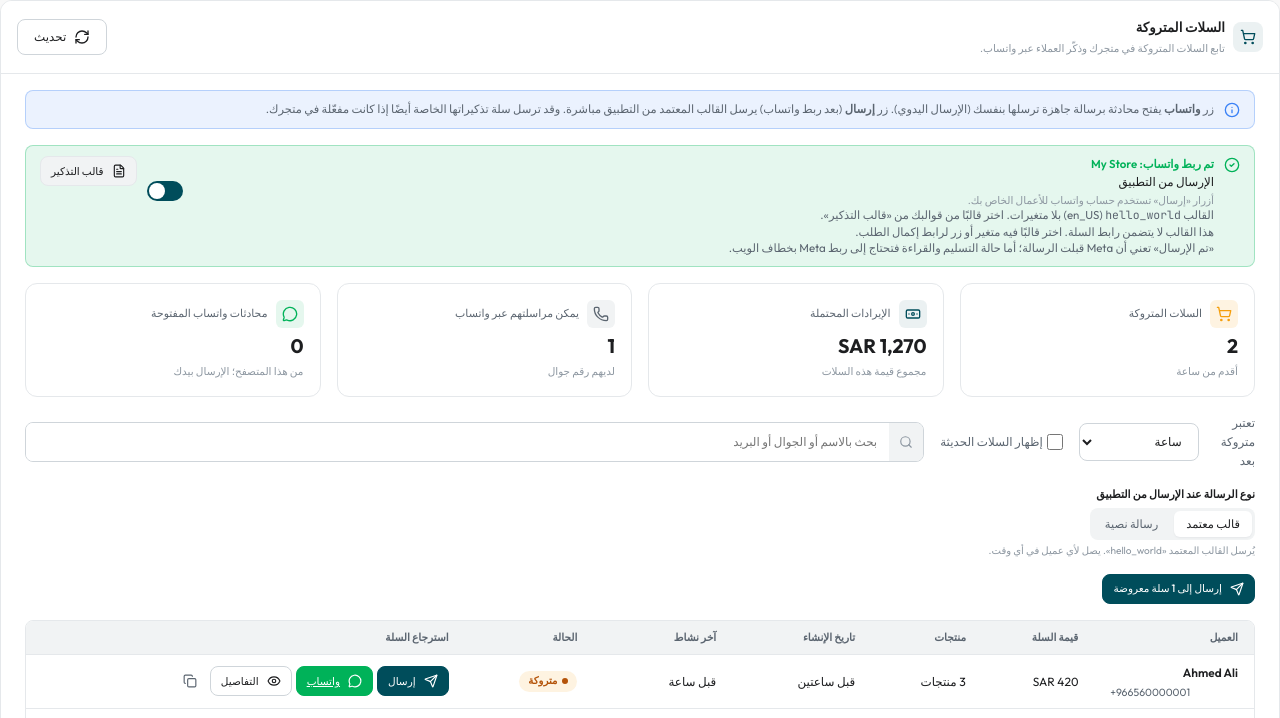
Test: CartRecoveryTab › shows why Meta rejected a message on the cart's row
The width and height of the screenshot is (1280, 718).
Click the button with aria-label "إرسال عبر واتساب إلى Ahmed Ali".
click(413, 682)  # box [377, 666, 449, 696]
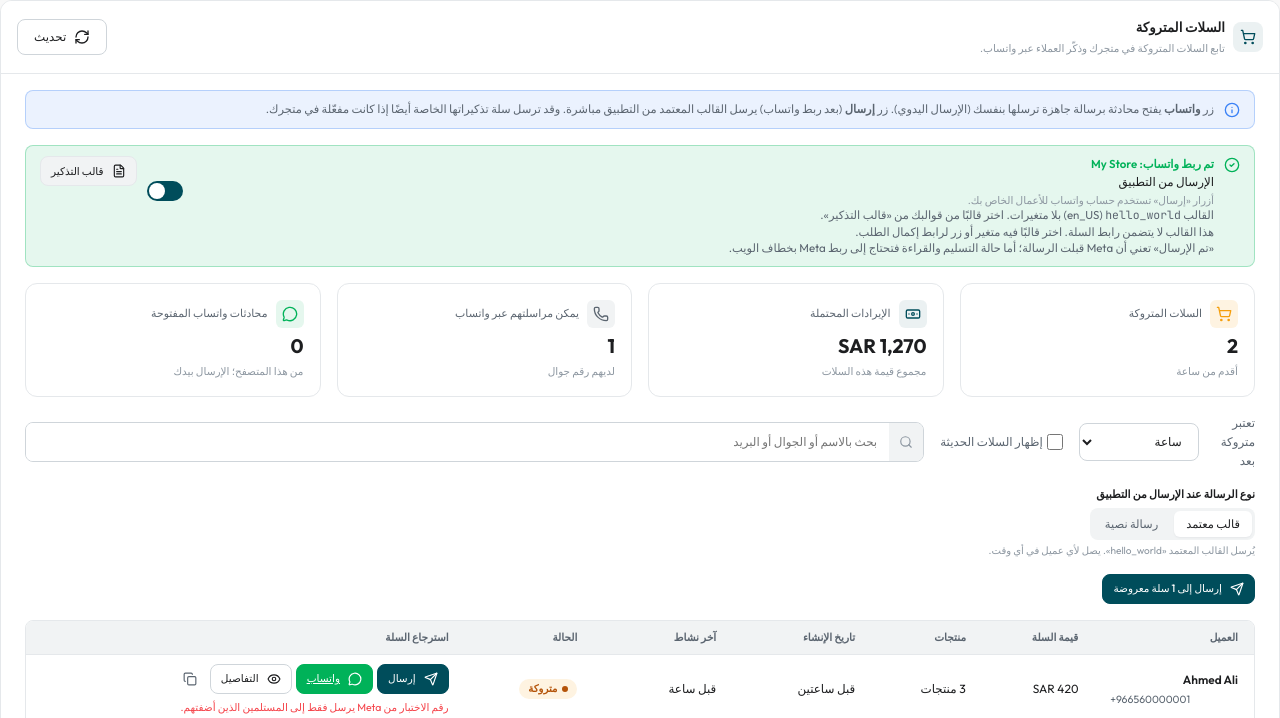
Expected: the text "رقم الاختبار من Meta يرسل فقط إلى المستلمين الذين أضفتهم." is shown, [180, 700, 449, 714]
